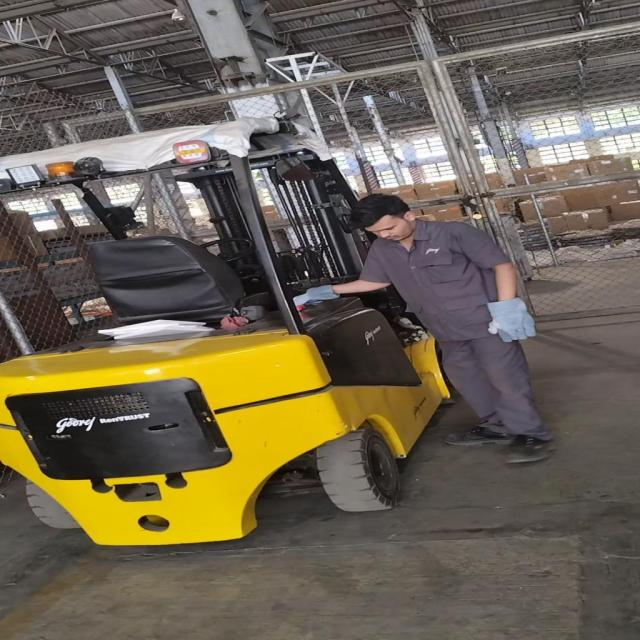Gloves-Detection: (479, 297, 540, 347), (286, 283, 338, 309)
